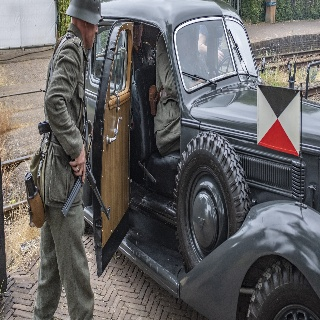rifle: (38, 108, 112, 223)
